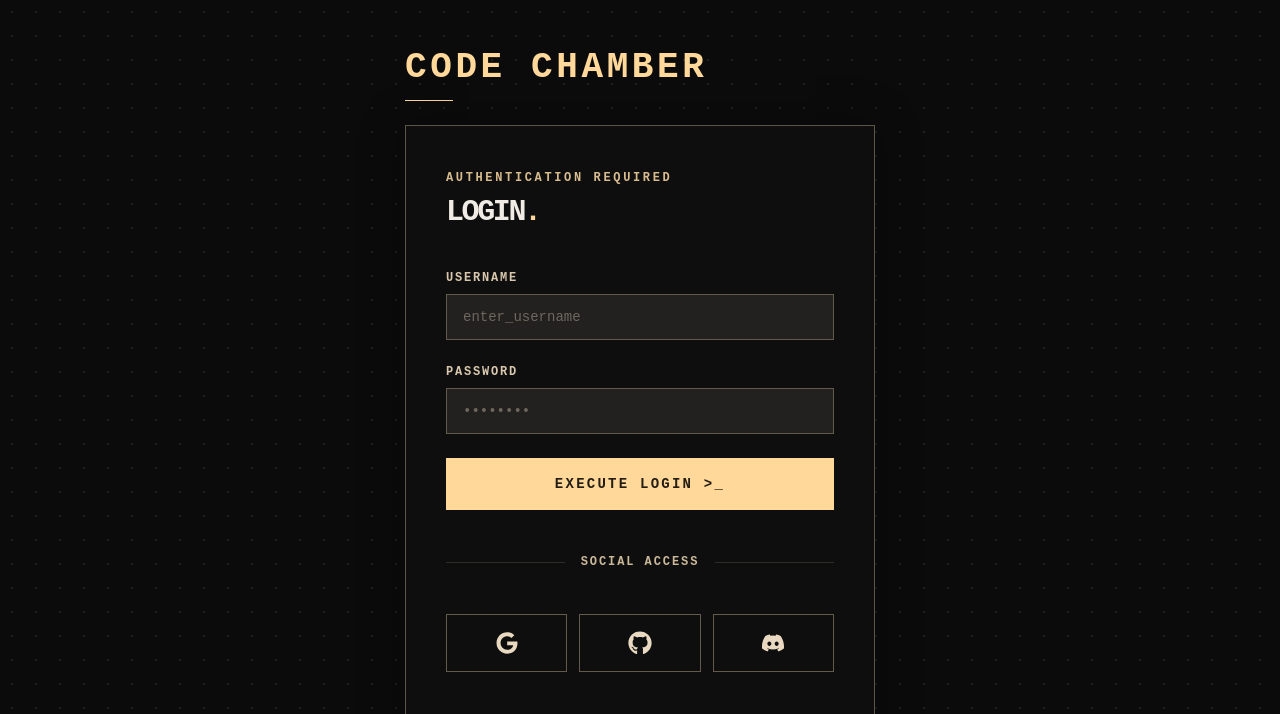
Test case: Login - social login › remains in a loading state with no error on a successful social login (browser redirect assumed)
What coordinates should you click on to do the following:
click the button named "Continue with Google"
I would click on:
 (507, 643)
Its box is [446,614,567,672].
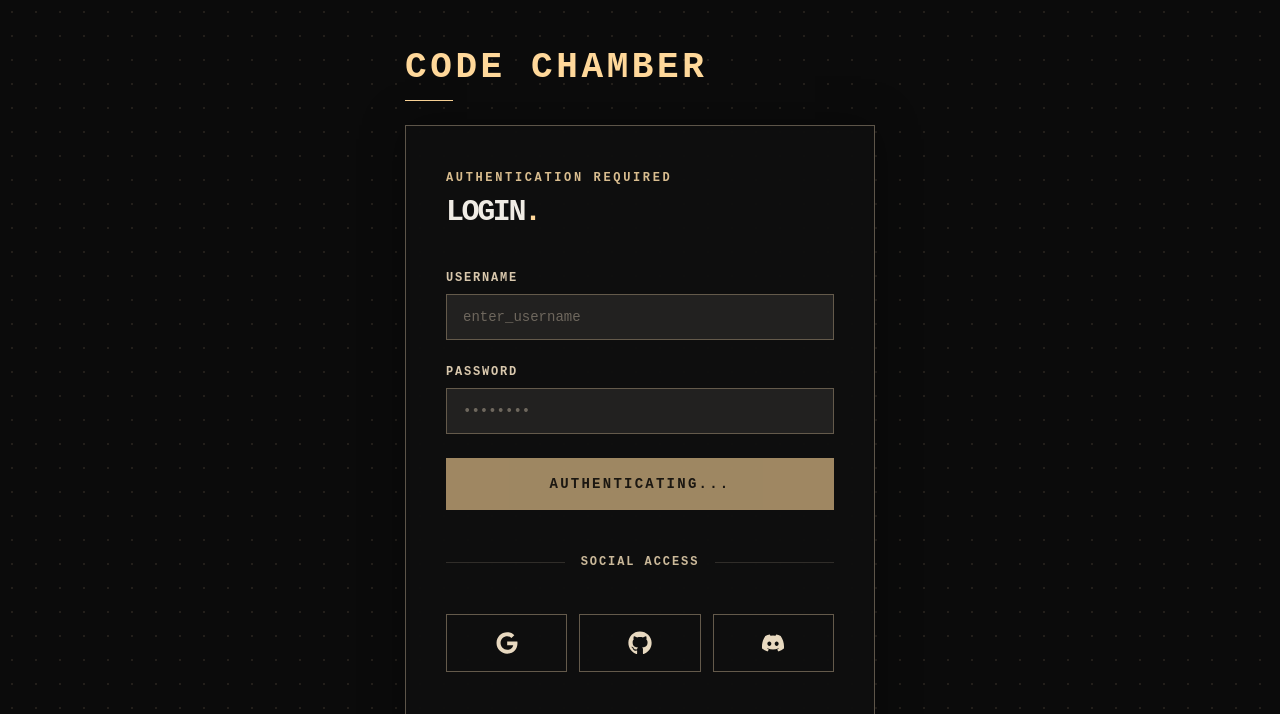
Result: the button "AUTHENTICATING..." is disabled at [446,458,834,510]
